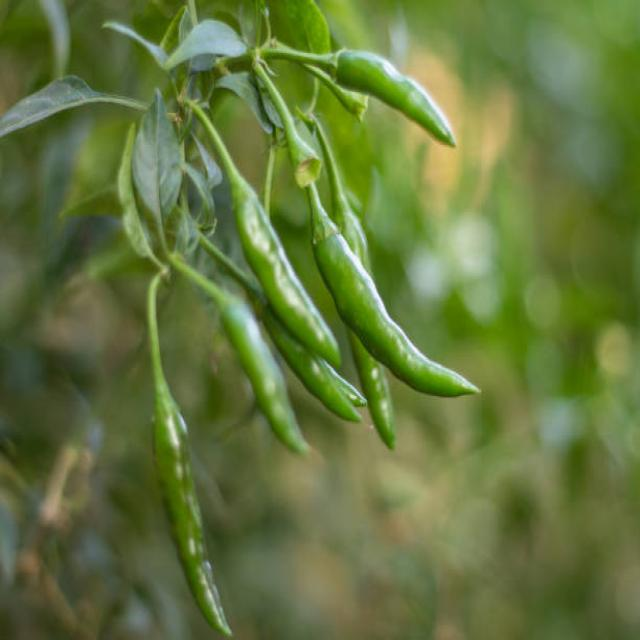Unripe: (192, 105, 338, 366), (148, 272, 231, 634), (170, 255, 309, 452), (315, 233, 478, 396), (336, 50, 455, 146), (261, 308, 360, 421), (306, 113, 370, 271), (351, 332, 395, 449), (326, 365, 366, 406)
